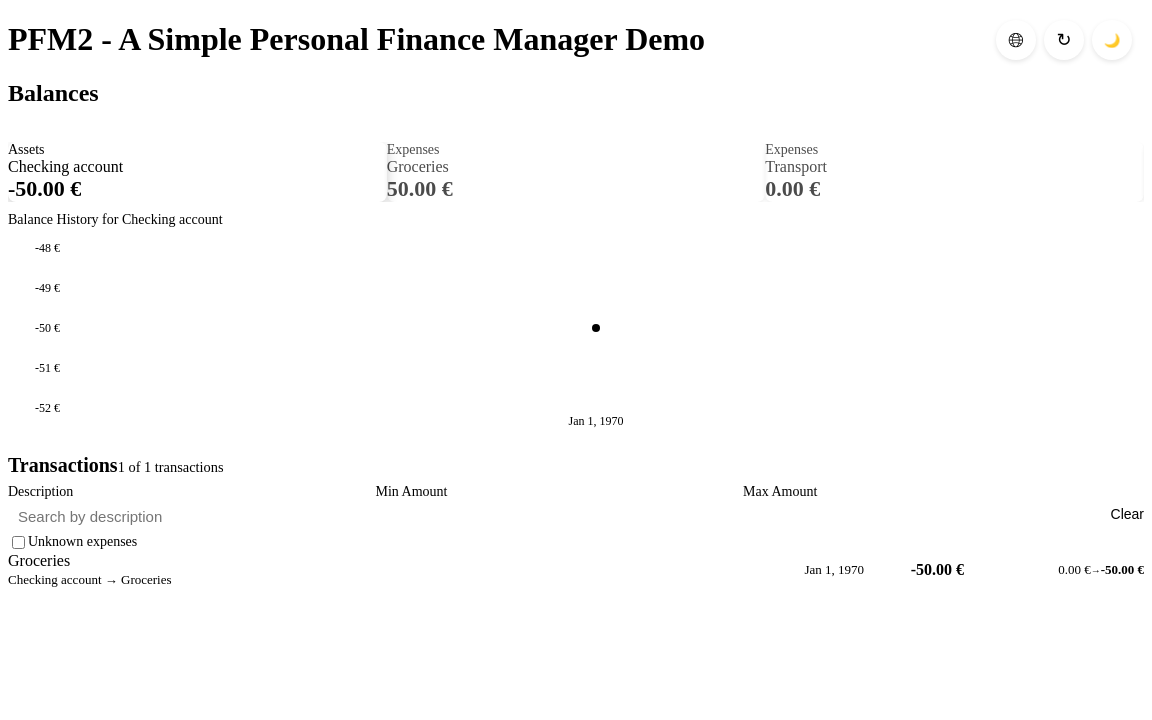
AppDataLoader › editing a transaction › handles deleting a transaction
The image size is (1152, 720).
Note: Wait for transaction to appear and click it
What coordinates should you click on to do the following:
click the button with test id "transaction-item--1"
I would click on:
 (39, 560)
Its box is [8, 552, 1144, 588].
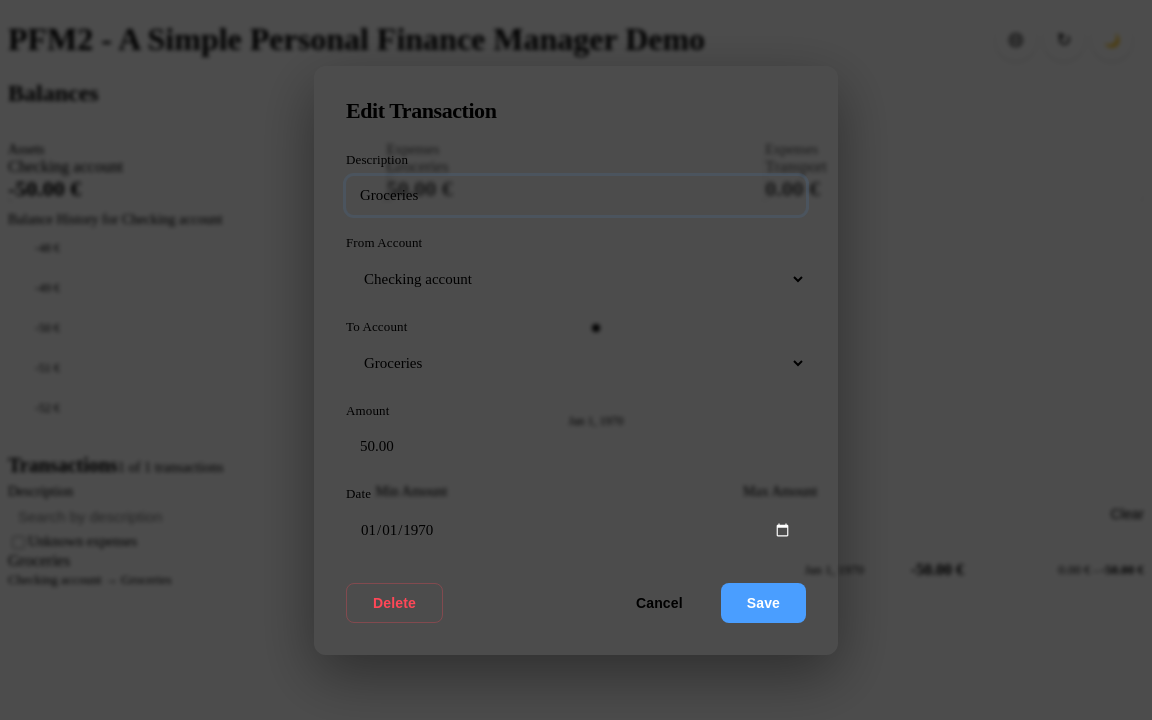
Check: the button with test id "transaction-delete" is shown
Check: the button with test id "transaction-delete" reads "Delete"
Note: Click delete button
What coordinates should you click on to do the following:
click the button with test id "transaction-delete"
I would click on:
 (394, 602)
Its box is [346, 582, 443, 622].
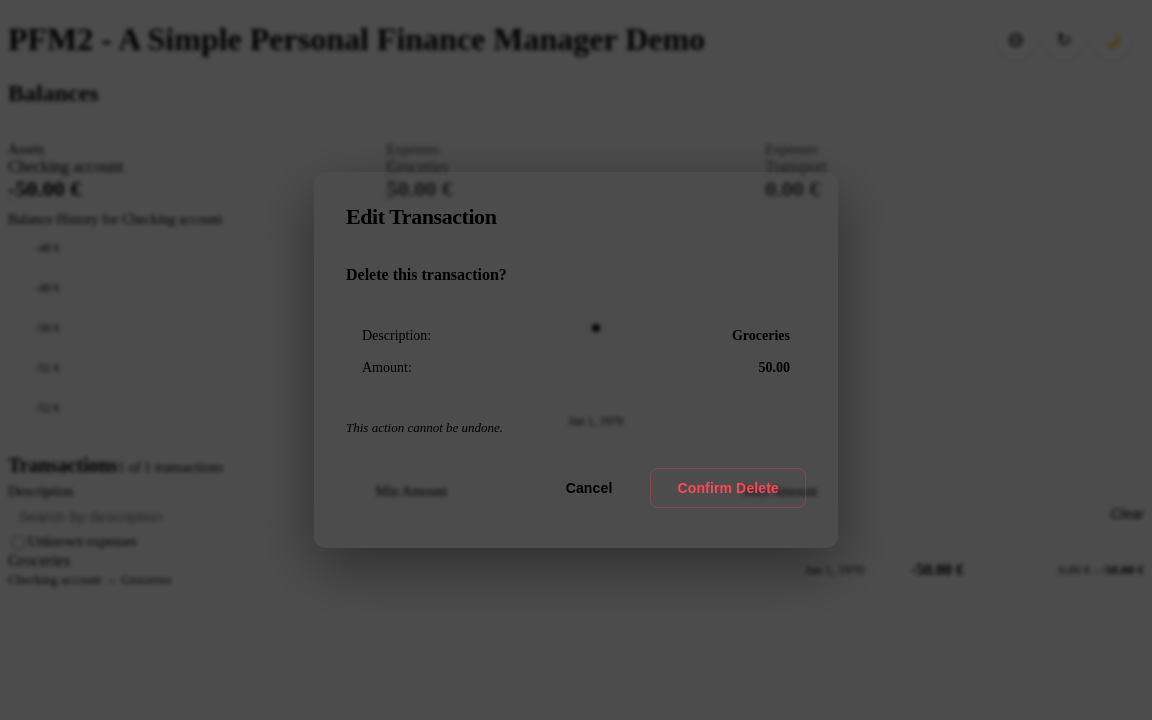
Check: the text "Delete this transaction?" is shown, box [346, 266, 507, 283]
Check: the text "This action cannot be undone." is shown, box [346, 420, 503, 435]
Check: the text with test id "delete-recap-description" reads "Groceries", box [732, 328, 790, 343]
Note: Click cancel to go back to edit form
What coordinates should you click on to do the following:
click the button with test id "delete-cancel"
I would click on:
 (589, 488)
Its box is [540, 468, 638, 508].
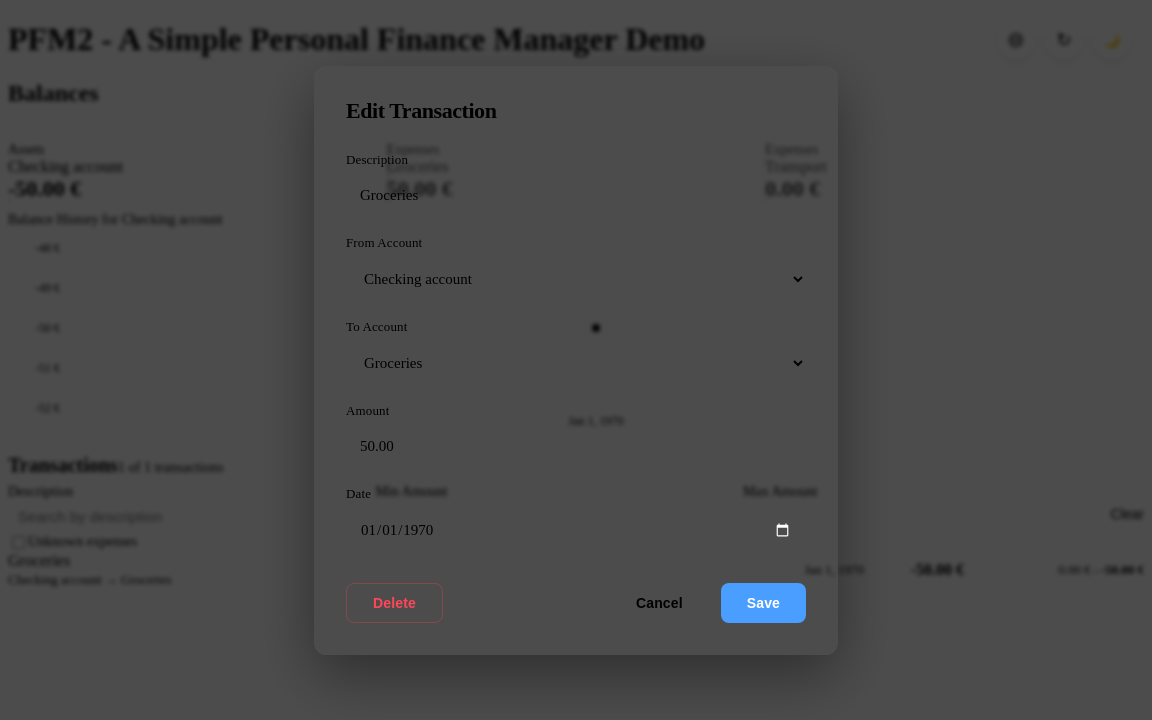
Check: the text with test id "delete-recap-description" is gone
Note: Click delete again to re-enter confirmation
What coordinates should you click on to do the following:
click the button with test id "transaction-delete"
I would click on:
 (394, 602)
Its box is [346, 582, 443, 622].
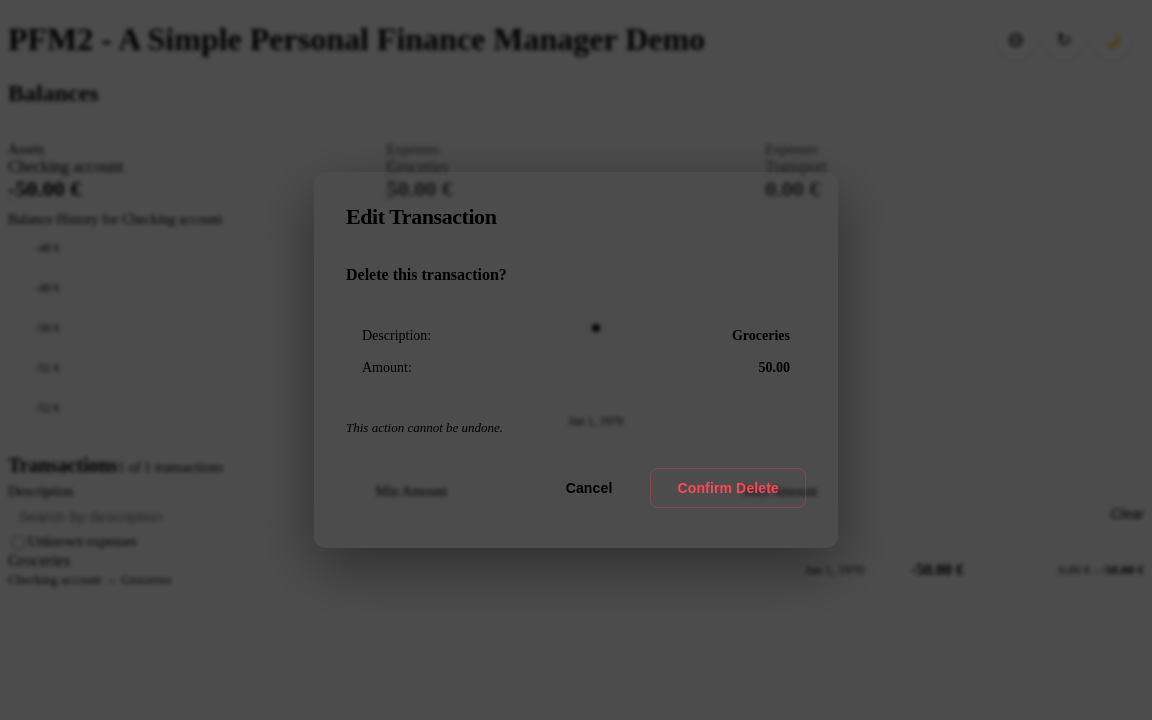
Check: the button with test id "transaction-delete-confirm" reads "Confirm Delete"
Note: Click Confirm Delete
What coordinates should you click on to do the following:
click the button with test id "transaction-delete-confirm"
I would click on:
 (728, 488)
Its box is [650, 468, 806, 508].
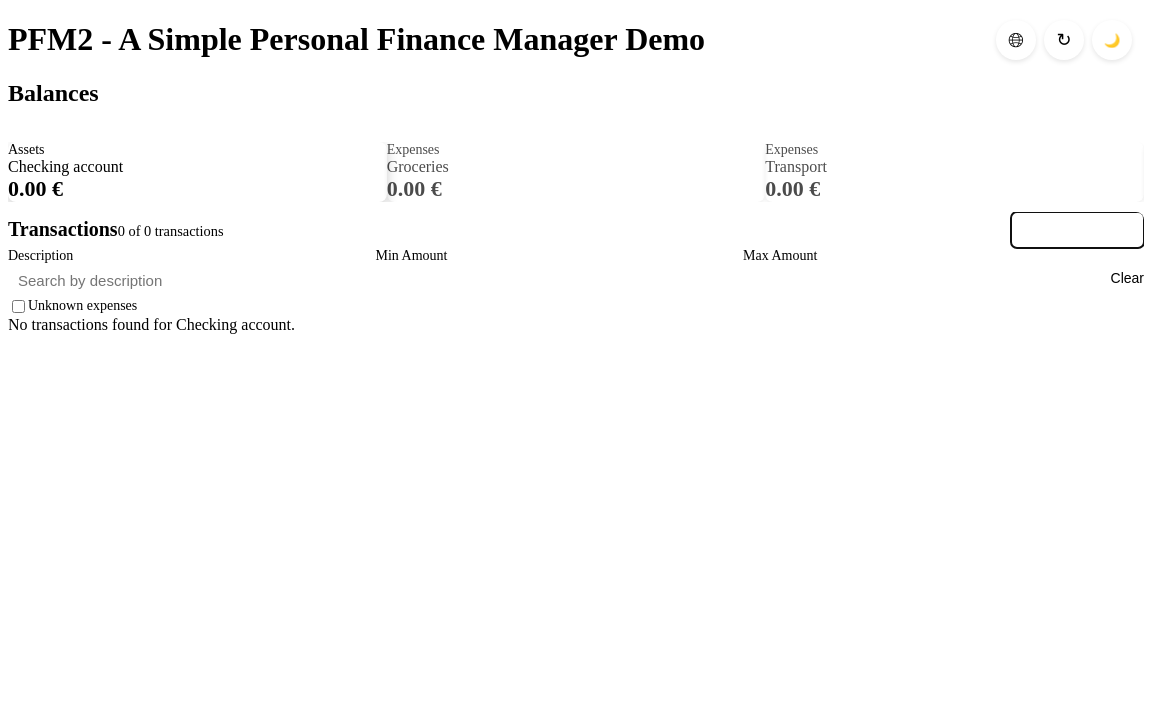
Check: the dialog is gone
Check: the button with test id "transaction-item--1" is gone
